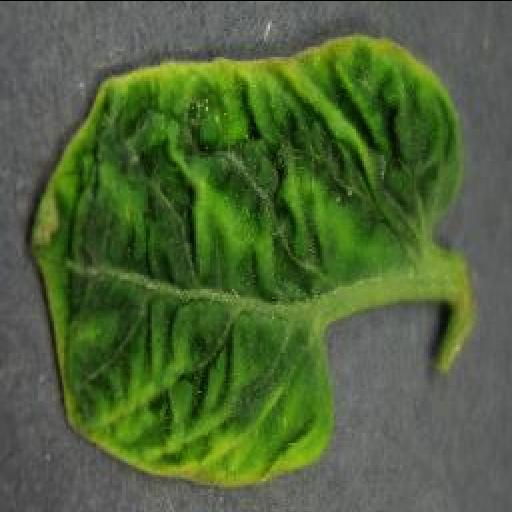disease_tomato: (27, 34, 461, 488)
